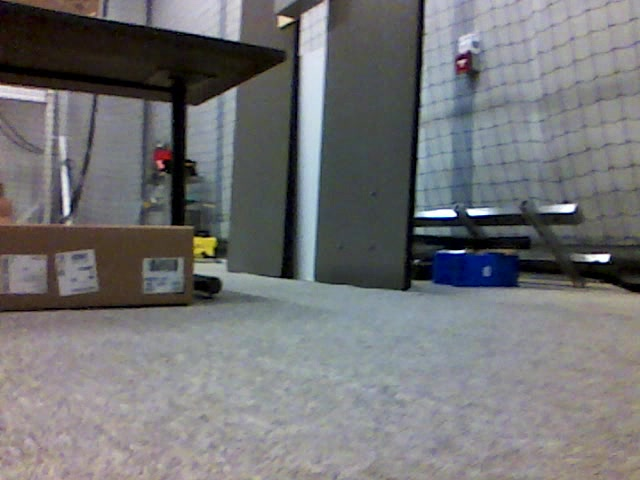box: (1, 225, 193, 309)
